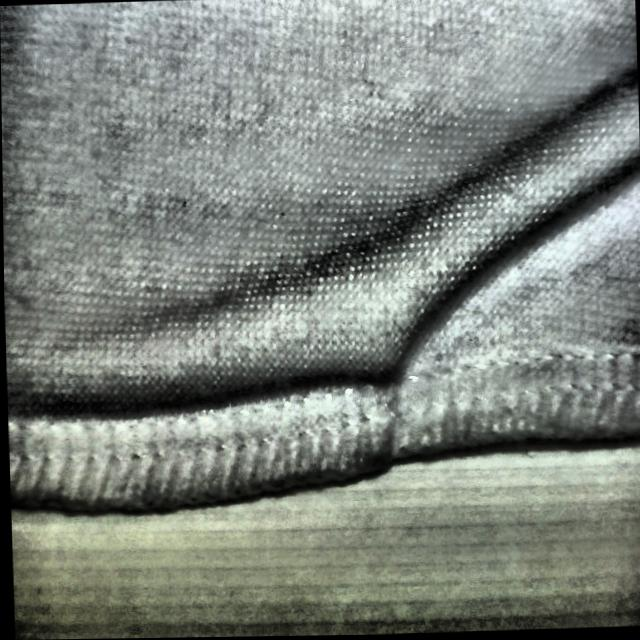seam: (248, 224, 490, 491)
